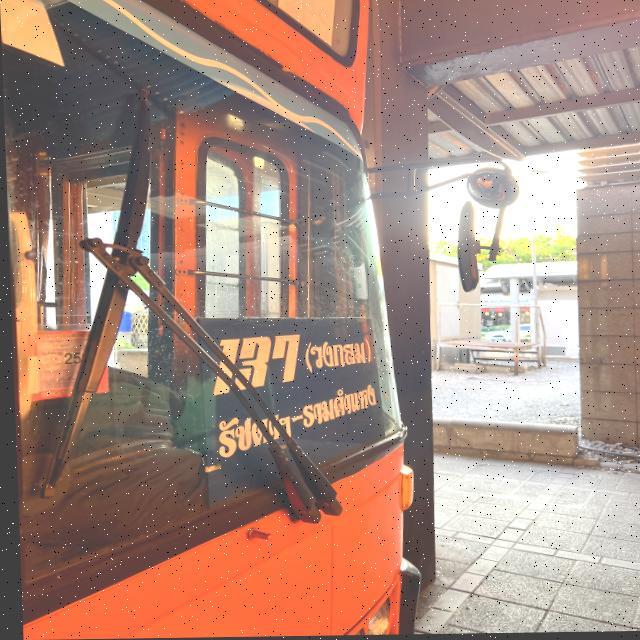BMTA-bus: (0, 0, 421, 640)
Destination-Sign-Normal: (188, 315, 387, 500)
